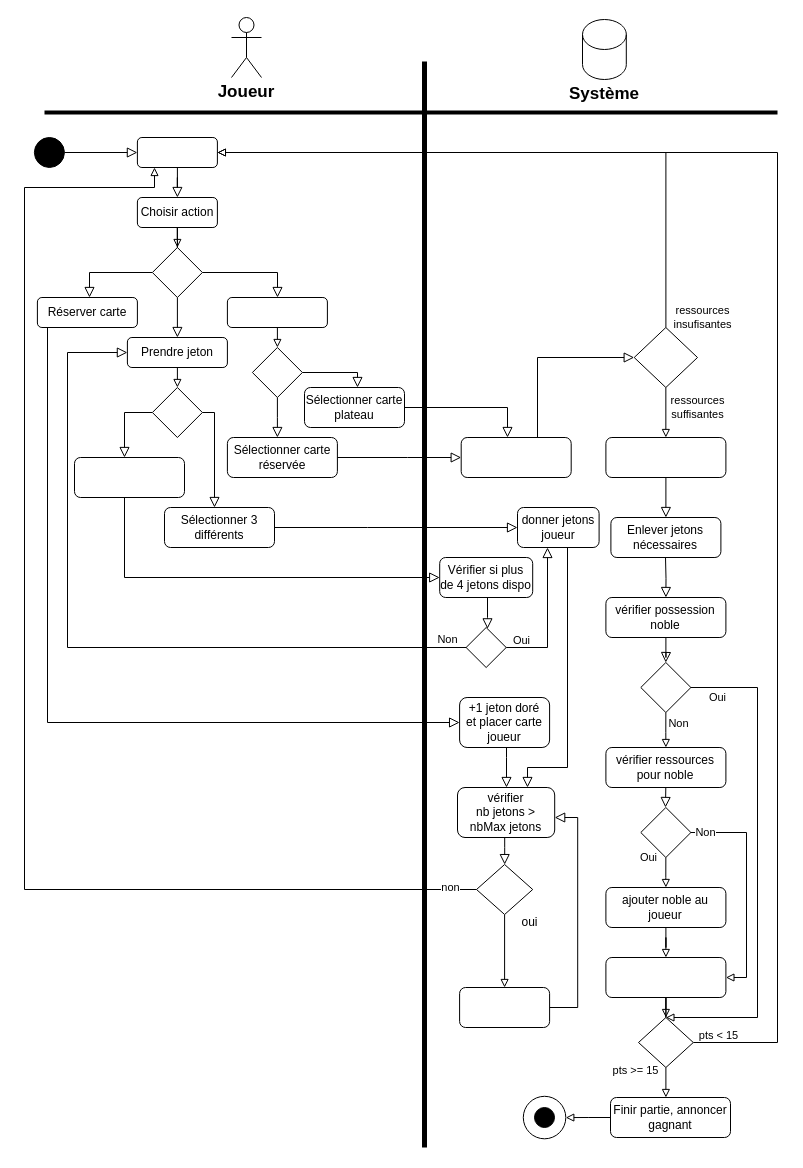
Some shapes in this 803 by 1168 pixel diagram are drawn without their labels. Here are the shapes that lost their labels. From the top down, the box of each, then its label:
(136, 136, 217, 168): Début tour
(226, 296, 327, 328): Acheter carte
(74, 456, 184, 498): Sélectionner 2 identiques
(460, 436, 571, 478): vérifier ressources joueur
(605, 436, 726, 478): ajouter carte main joueur
(605, 956, 726, 998): vérifier si cas victoire
(459, 986, 550, 1028): Défausser les jetons
